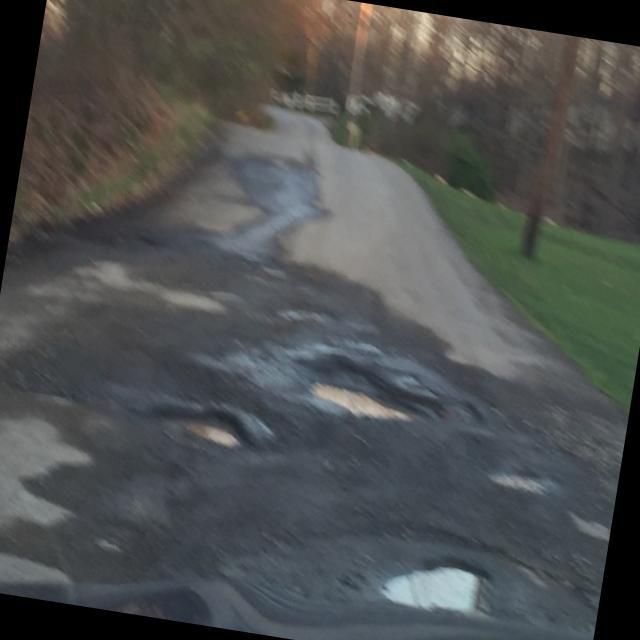Pothole: (370, 532, 497, 628), (296, 346, 420, 435), (156, 392, 252, 458), (106, 569, 215, 626), (76, 510, 148, 563), (492, 460, 550, 503), (563, 504, 614, 550)
